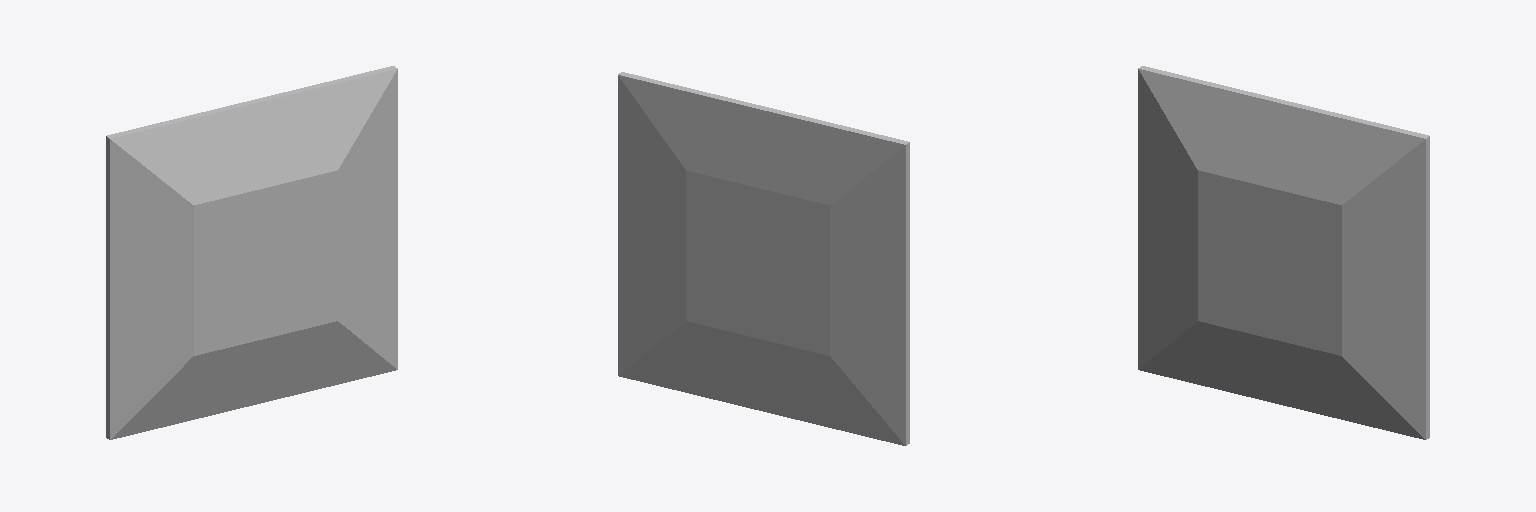
Rendered from 0205_3D_2Board.obj.
The picture shows the model from 3 angles: view 1: azimuth 30°, elevation 25°; view 2: azimuth 150°, elevation 25°; view 3: azimuth 330°, elevation 25°; orthographic projection.
Visible parts, largest first — view 1: 立方体; view 2: 立方体; view 3: 立方体.
Part boxes in pixels (bbox=[...]): 立方体: bbox=[106, 66, 397, 439]; 立方体: bbox=[618, 72, 909, 445]; 立方体: bbox=[1138, 66, 1429, 439].
Bounding box in the file's own units: 2 × 2 × 0.24.